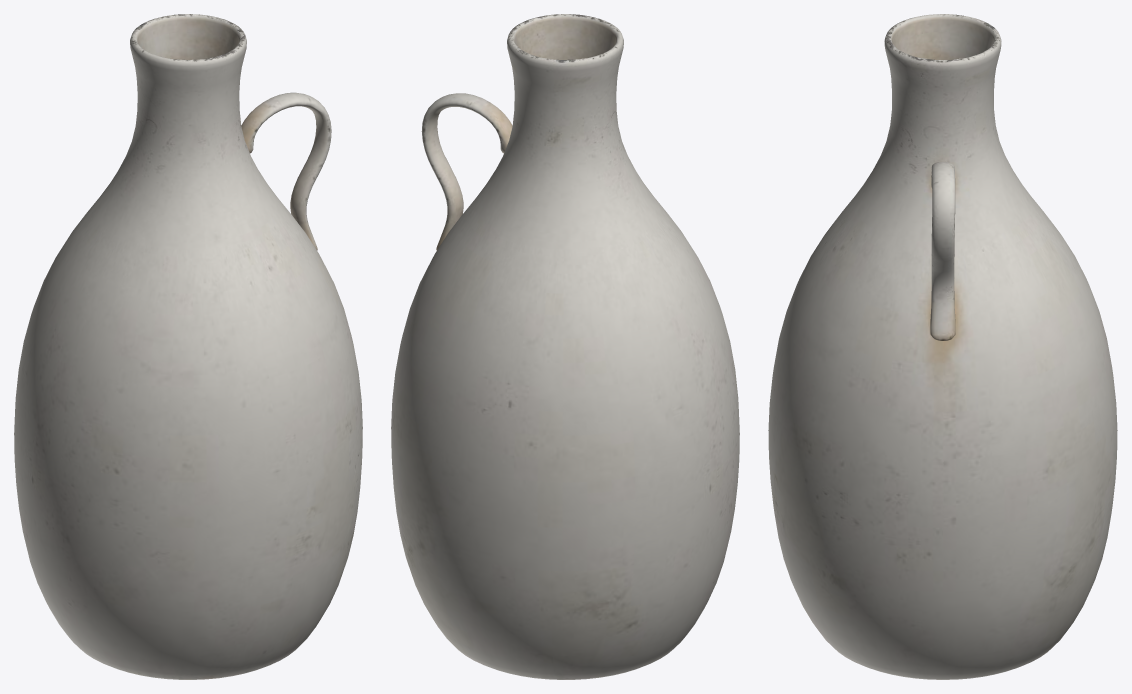
The model's file is ceramic_vase_04.glb.
3 views of the same model, side by side, from view 1: azimuth 30°, elevation 25°; view 2: azimuth 150°, elevation 25°; view 3: azimuth 270°, elevation 25° (orthographic).
Parts seen in each view (by area): view 1: ceramic_vase_04; view 2: ceramic_vase_04; view 3: ceramic_vase_04.
Part boxes in pixels (x1,y1,x2,y2): ceramic_vase_04: (14, 14, 362, 679); ceramic_vase_04: (391, 14, 739, 679); ceramic_vase_04: (768, 14, 1117, 679).
Size of the model in its own units: 0.1811 by 0.3419 by 0.1811.
1 material, 1 textured.
